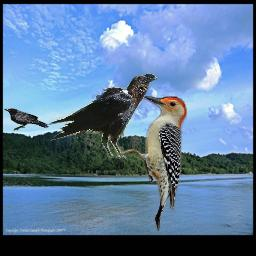Crow: (47, 73, 157, 159), (4, 108, 49, 131)
Woodpecker: (118, 96, 187, 231)
